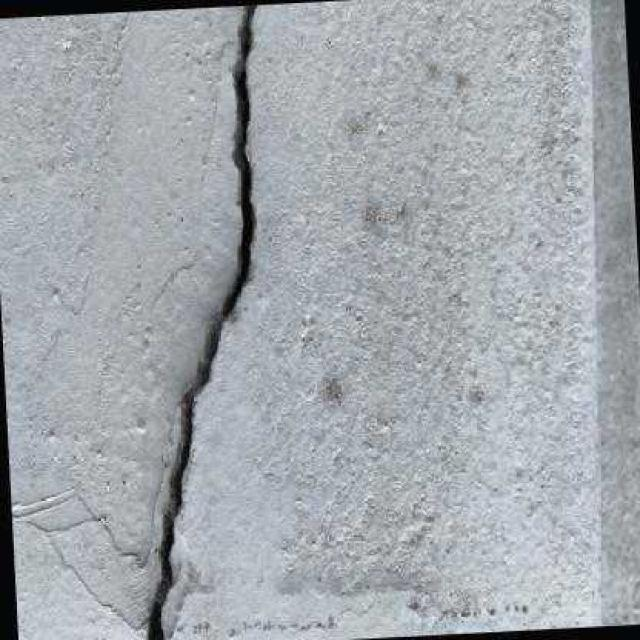D00: (143, 5, 257, 640)
